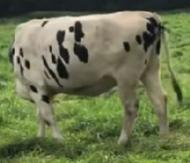cow: (9, 11, 183, 147)
